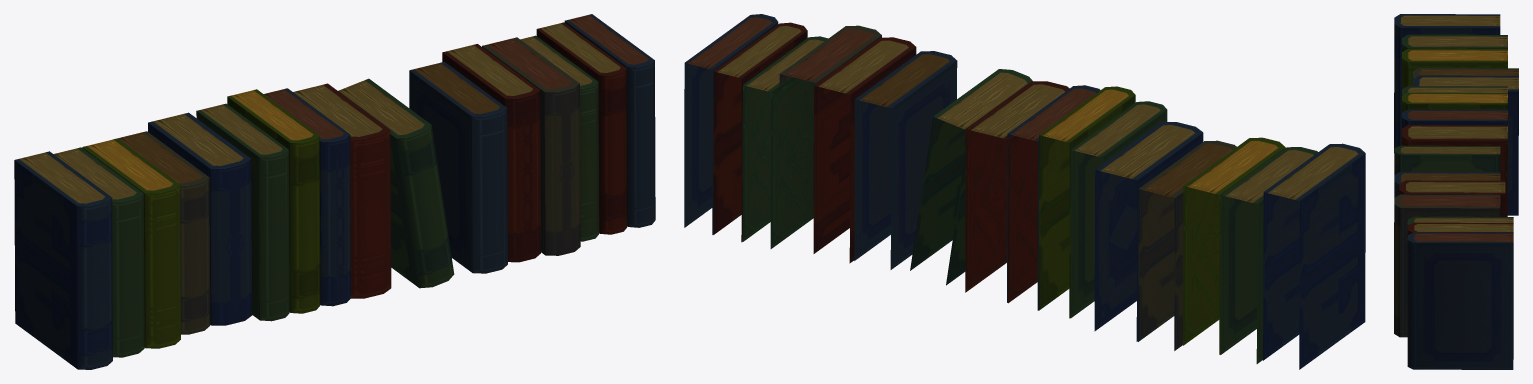
The model's file is prop_bookgroup_medium_1.glb.
3 views of the same model, side by side, from view 1: azimuth 30°, elevation 25°; view 2: azimuth 150°, elevation 25°; view 3: azimuth 270°, elevation 25° (orthographic). The views are drawn at different scales.
Visible parts, largest first — view 1: BookGroup_Medium_1; view 2: BookGroup_Medium_1; view 3: BookGroup_Medium_1.
Part boxes in pixels (box(x1,y1,x2,y2)): BookGroup_Medium_1: box(14, 14, 655, 369); BookGroup_Medium_1: box(684, 14, 1365, 369); BookGroup_Medium_1: box(1394, 14, 1518, 369).
Bounding box in the file's own units: 1.06 × 0.2983 × 0.2475.
Materials: 1 (1 with a texture image).
